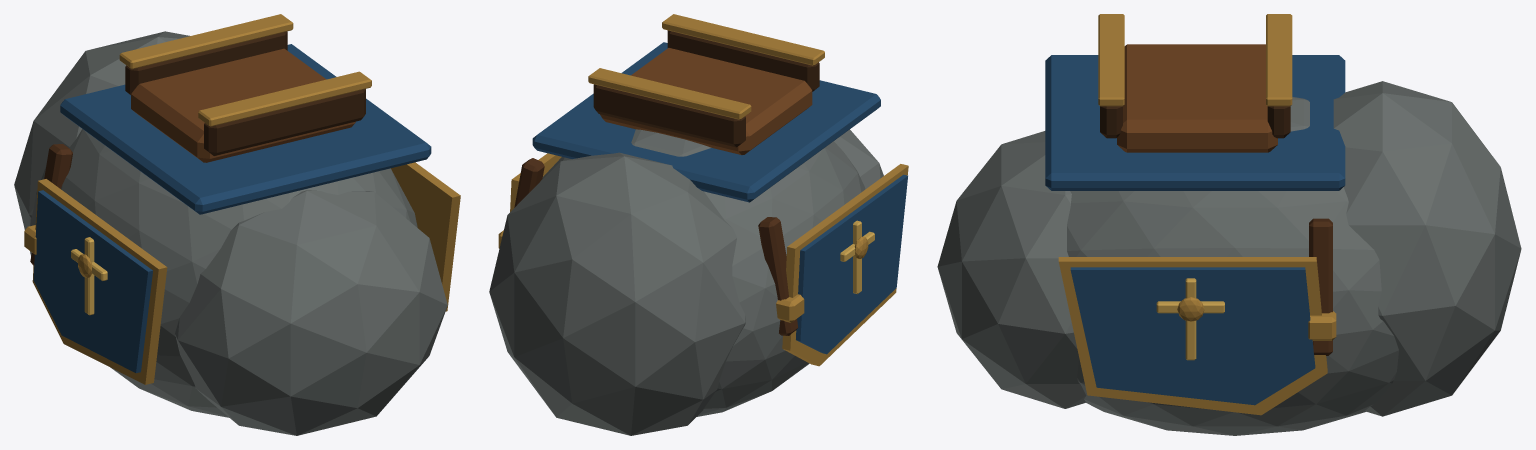
File: Body.glb
3 renders of one model, left to right at view 1: azimuth 30°, elevation 25°; view 2: azimuth 150°, elevation 25°; view 3: azimuth 270°, elevation 25°, orthographic. The views are drawn at different scales.
Visible parts, largest first — view 1: Sculpture; view 2: Sculpture; view 3: Sculpture.
Boxes of the visible parts, bbox=[...] form: Sculpture: bbox=[14, 14, 460, 435]; Sculpture: bbox=[489, 14, 908, 435]; Sculpture: bbox=[937, 14, 1521, 435].
Size of the model in its own units: 1.87 by 1.81 by 2.65.
